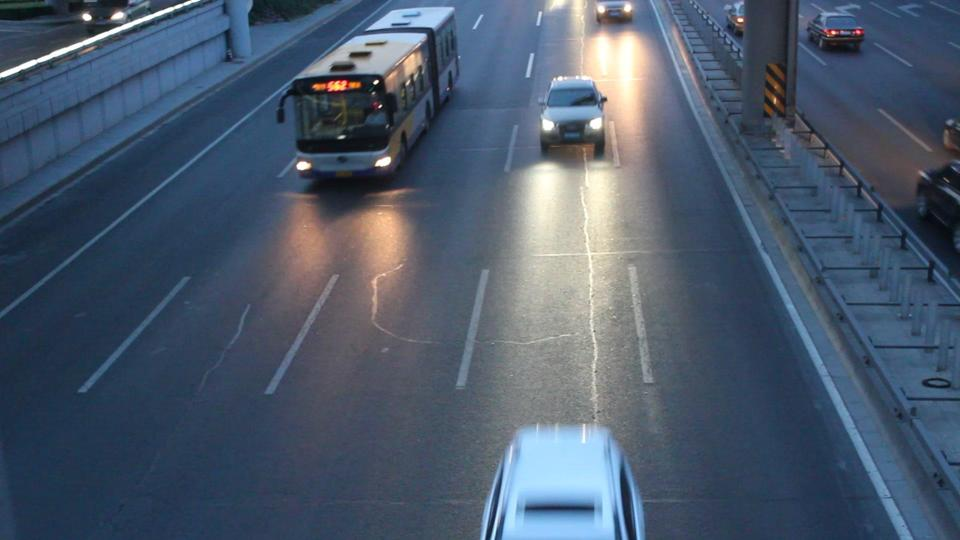Bus: (293, 8, 456, 176)
Car: (480, 430, 643, 540), (537, 77, 604, 145), (915, 156, 960, 248), (806, 11, 862, 43), (723, 1, 770, 31), (596, 1, 630, 20)
